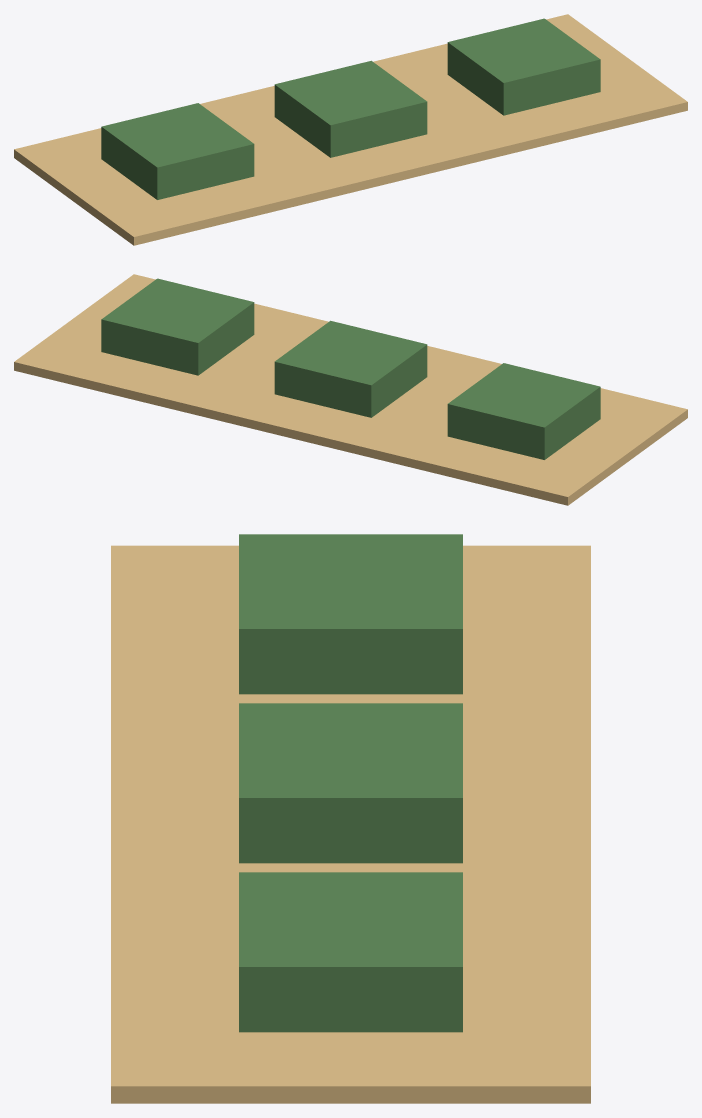
Rendered from botanical-garden.glb.
3 views of the same model, one above another, from view 1: azimuth 30°, elevation 25°; view 2: azimuth 150°, elevation 25°; view 3: azimuth 270°, elevation 25° (orthographic). The views are drawn at different scales.
Parts seen in each view (by area): view 1: botanical-garden-static-garden-path, botanical-garden-static-garden-leaf; view 2: botanical-garden-static-garden-path, botanical-garden-static-garden-leaf; view 3: botanical-garden-static-garden-path, botanical-garden-static-garden-leaf.
Boxes of the visible parts, x1,y1,x2,y2 form: botanical-garden-static-garden-path: [14, 14, 687, 245]; botanical-garden-static-garden-leaf: [101, 18, 600, 199]; botanical-garden-static-garden-path: [14, 274, 687, 505]; botanical-garden-static-garden-leaf: [101, 278, 600, 459]; botanical-garden-static-garden-path: [111, 545, 590, 1103]; botanical-garden-static-garden-leaf: [239, 534, 462, 1032].
Bounding box in the file's own units: 8 × 0.57 × 3.
